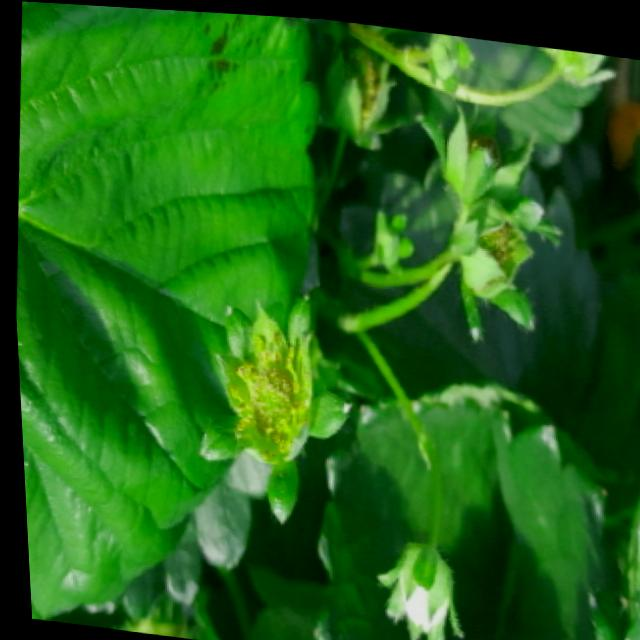Blossom Blight: (221, 320, 314, 458)
